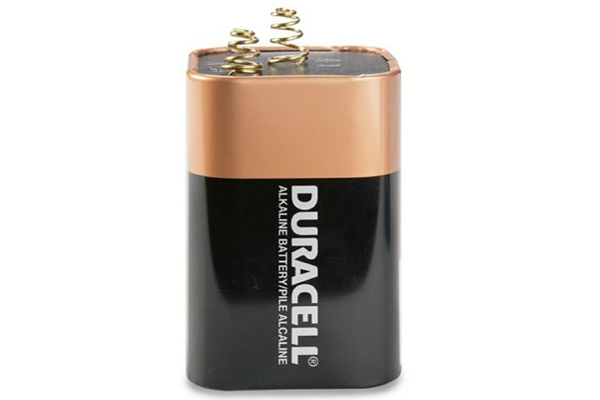6V: (176, 8, 410, 392)
